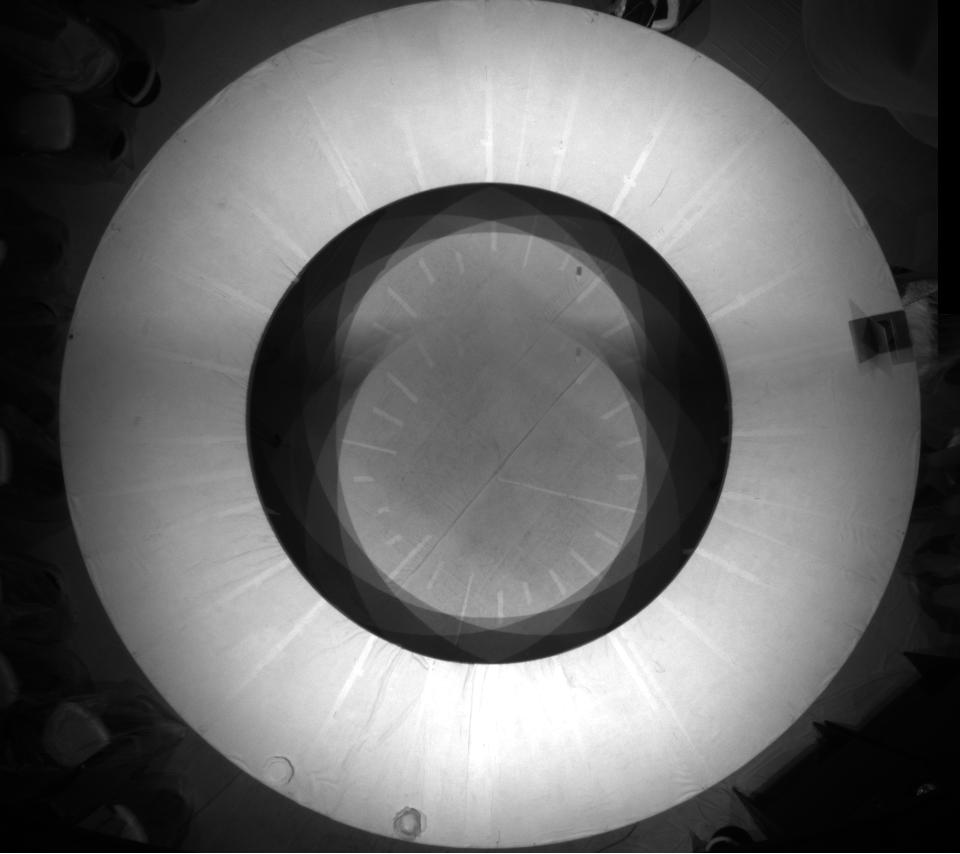Plate: (390, 803, 427, 844)
